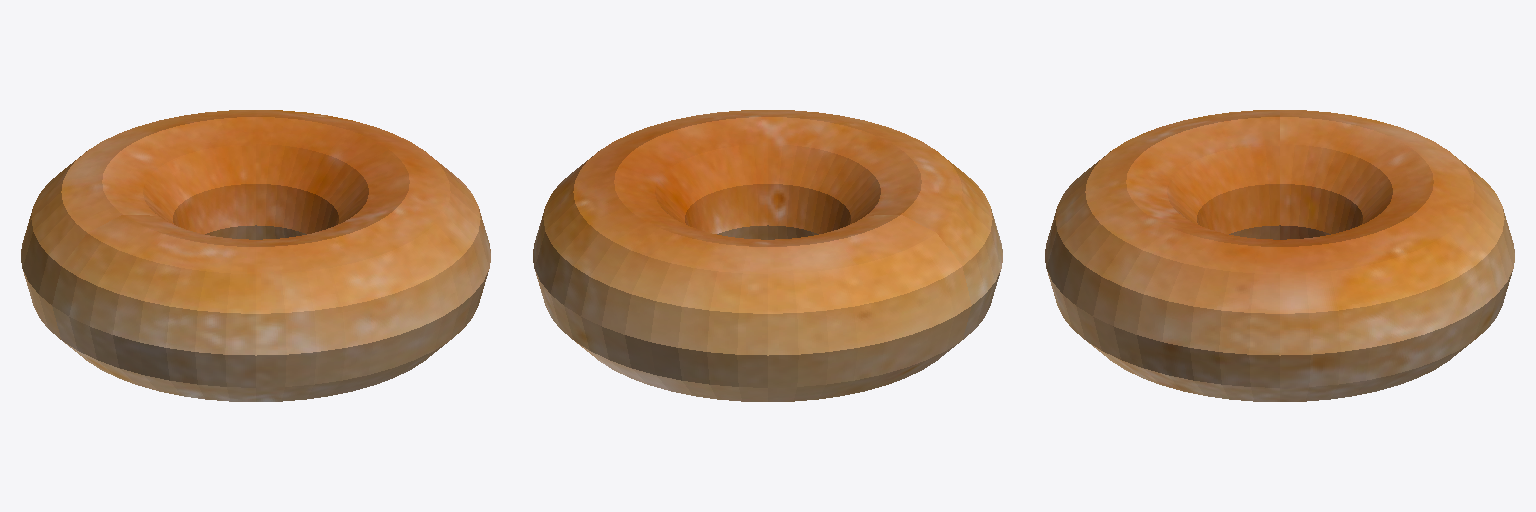
3 renders of one model, left to right at view 1: azimuth 30°, elevation 25°; view 2: azimuth 150°, elevation 25°; view 3: azimuth 270°, elevation 25°, orthographic.
Visible parts, largest first — view 1: Rosca; view 2: Rosca; view 3: Rosca.
Boxes of the visible parts, x1,y1,x2,y2 form: Rosca: [21, 110, 490, 401]; Rosca: [533, 110, 1002, 401]; Rosca: [1045, 110, 1514, 401].
Bounding box in the file's own units: 0.15 × 0.052 × 0.15.
Materials: 2 (2 with a texture image).